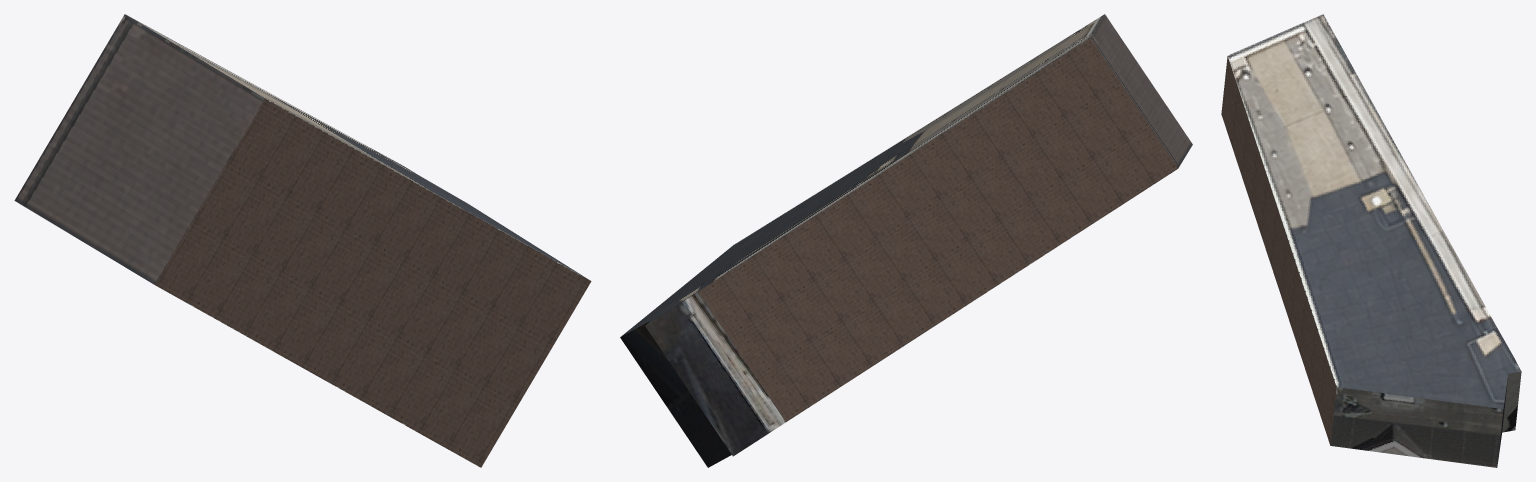
3 renders of one model, left to right at view 1: azimuth 30°, elevation 25°; view 2: azimuth 150°, elevation 25°; view 3: azimuth 270°, elevation 25°, orthographic. The views are drawn at different scales.
Parts seen in each view (by area): view 1: BAG_0599100000760370 (×2); view 2: BAG_0599100000760370 (×3); view 3: BAG_0599100000760370 (×2).
Boxes of the visible parts, x1,y1,x2,y2 form: BAG_0599100000760370 (×2): (14,14,591,467); BAG_0599100000760370 (×3): (620,14,1192,467); BAG_0599100000760370 (×2): (1221,14,1521,467).
Size of the model in its own units: 12.28 by 11.08 by 8.77.
1 material, 1 textured.
